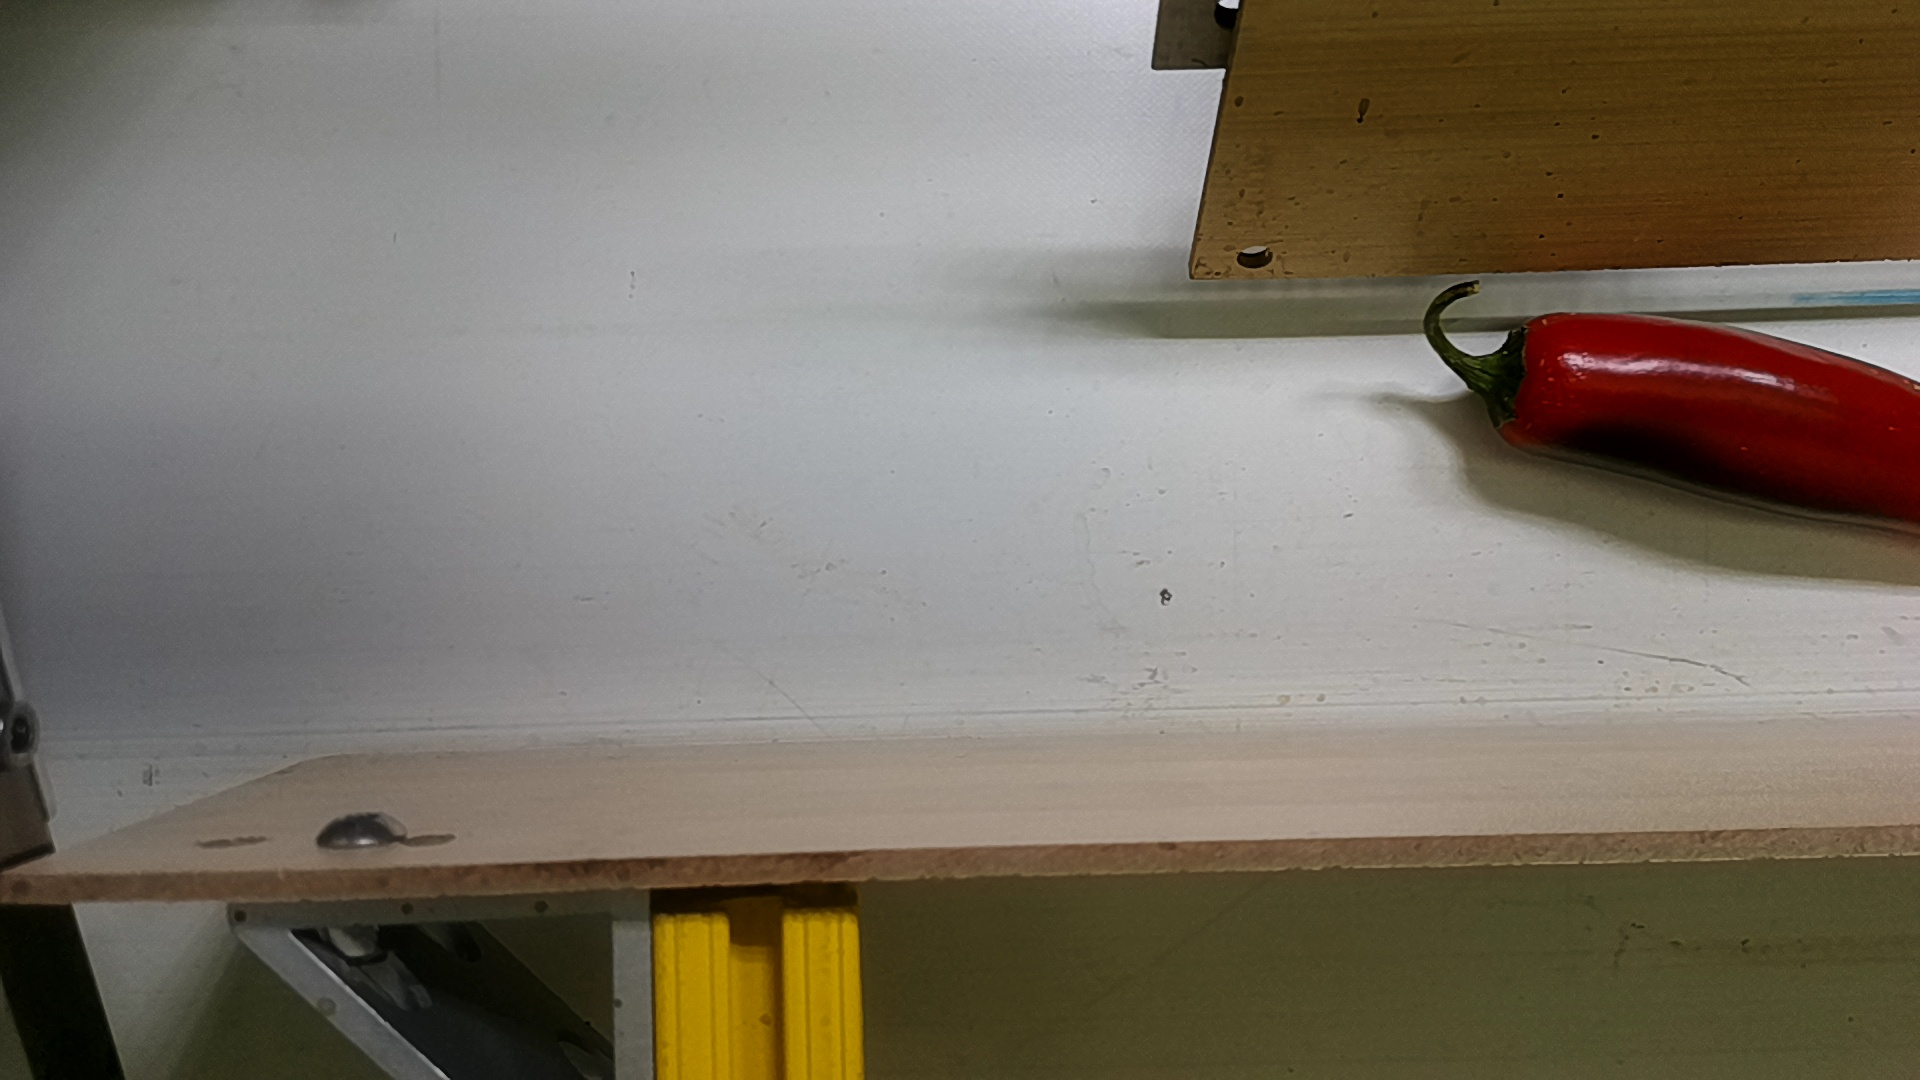Cut Point: (1469, 305, 1578, 464)
